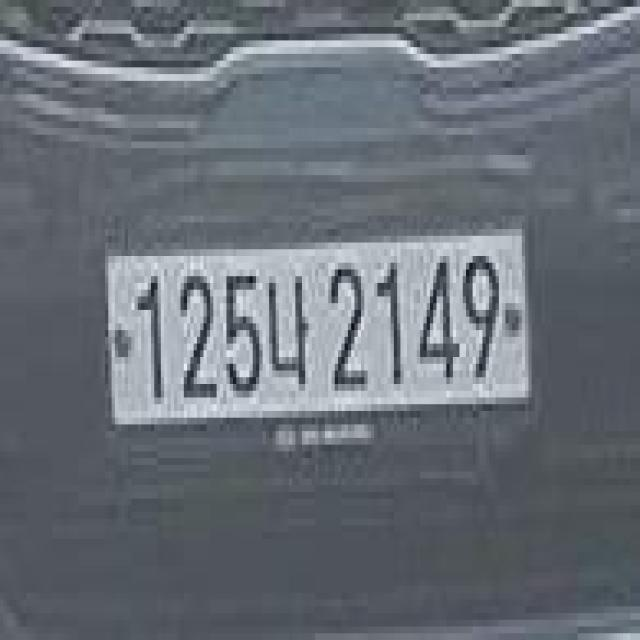illegal_plate: (102, 215, 537, 468)
